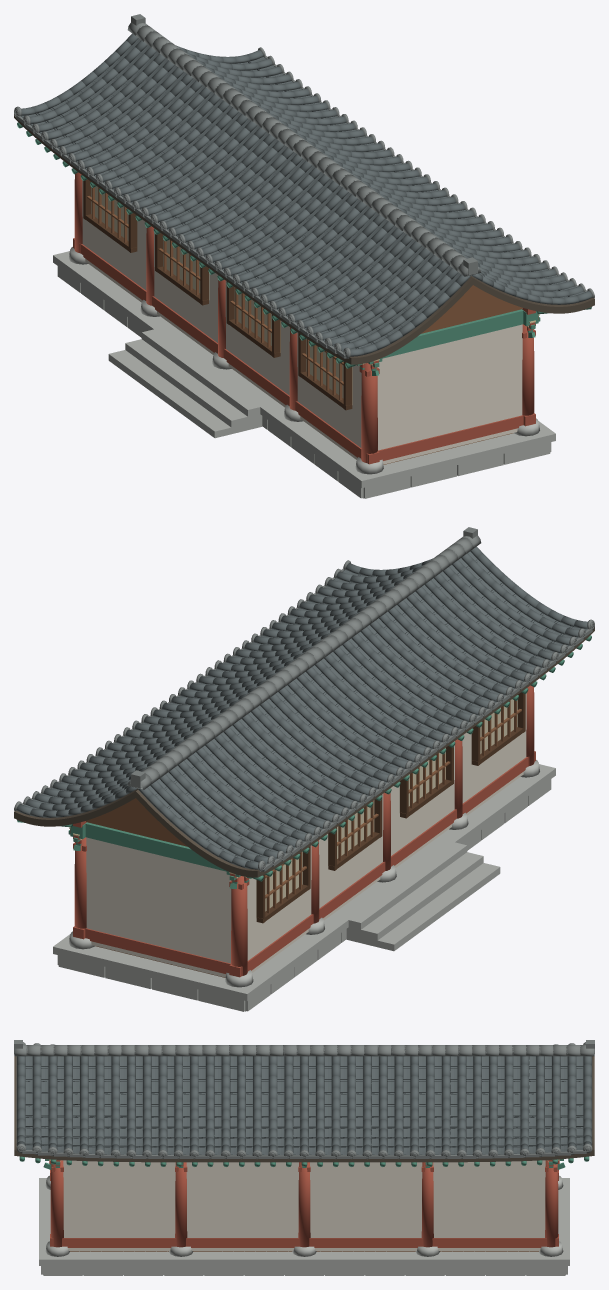
File: Gwana_East_Haengrang.fbx
3 renders of one model, top to bottom at view 1: azimuth 30°, elevation 25°; view 2: azimuth 150°, elevation 25°; view 3: azimuth 270°, elevation 25°, orthographic. The views are drawn at different scales.
Visible parts, largest first — view 1: GW_Gwana_East_Haengrang_Individual_Sukiwa, GW_Gwana_East_Haengrang_Walls_Floor, GW_Gwana_East_Haengrang_Stone_Foundation, GW_Gwana_East_Haengrang_Individual_Amkiwa, GW_Gwana_East_Haengrang_Timber, GW_Gwana_East_Haengrang_Doors_Lattice, GW_Gwana_East_Haengrang_Segmented_Ridge, GW_Gwana_East_Haengrang_Individual_Wadang, GW_Gwana_East_Haengrang_Roof_Shell, GW_Gwana_East_Haengrang_Closed_Attic_Walls, GW_Gwana_East_Haengrang_Individual_Rafters; view 2: GW_Gwana_East_Haengrang_Individual_Sukiwa, GW_Gwana_East_Haengrang_Walls_Floor, GW_Gwana_East_Haengrang_Stone_Foundation, GW_Gwana_East_Haengrang_Individual_Amkiwa, GW_Gwana_East_Haengrang_Timber, GW_Gwana_East_Haengrang_Doors_Lattice, GW_Gwana_East_Haengrang_Segmented_Ridge, GW_Gwana_East_Haengrang_Individual_Wadang, GW_Gwana_East_Haengrang_Roof_Shell, GW_Gwana_East_Haengrang_Closed_Attic_Walls, GW_Gwana_East_Haengrang_Individual_Rafters; view 3: GW_Gwana_East_Haengrang_Walls_Floor, GW_Gwana_East_Haengrang_Individual_Sukiwa, GW_Gwana_East_Haengrang_Individual_Amkiwa, GW_Gwana_East_Haengrang_Stone_Foundation, GW_Gwana_East_Haengrang_Timber, GW_Gwana_East_Haengrang_Segmented_Ridge, GW_Gwana_East_Haengrang_Roof_Shell, GW_Gwana_East_Haengrang_Individual_Wadang, GW_Gwana_East_Haengrang_Individual_Rafters, GW_Gwana_East_Haengrang_Bracket_Dancheong.
Part boxes in pixels (<box>): GW_Gwana_East_Haengrang_Individual_Sukiwa: <box>21,33,592,356</box>; GW_Gwana_East_Haengrang_Walls_Floor: <box>82,180,522,464</box>; GW_Gwana_East_Haengrang_Stone_Foundation: <box>53,251,555,498</box>; GW_Gwana_East_Haengrang_Individual_Amkiwa: <box>16,38,586,358</box>; GW_Gwana_East_Haengrang_Timber: <box>69,172,539,474</box>; GW_Gwana_East_Haengrang_Doors_Lattice: <box>83,179,352,410</box>; GW_Gwana_East_Haengrang_Segmented_Ridge: <box>127,14,481,276</box>; GW_Gwana_East_Haengrang_Individual_Wadang: <box>14,47,594,358</box>; GW_Gwana_East_Haengrang_Roof_Shell: <box>14,114,594,364</box>; GW_Gwana_East_Haengrang_Closed_Attic_Walls: <box>421,285,522,333</box>; GW_Gwana_East_Haengrang_Individual_Rafters: <box>17,122,591,368</box>; GW_Gwana_East_Haengrang_Individual_Sukiwa: <box>16,546,587,869</box>; GW_Gwana_East_Haengrang_Walls_Floor: <box>86,693,526,977</box>; GW_Gwana_East_Haengrang_Stone_Foundation: <box>53,764,555,1011</box>; GW_Gwana_East_Haengrang_Individual_Amkiwa: <box>22,551,592,871</box>; GW_Gwana_East_Haengrang_Timber: <box>69,685,539,987</box>; GW_Gwana_East_Haengrang_Doors_Lattice: <box>256,692,525,923</box>; GW_Gwana_East_Haengrang_Segmented_Ridge: <box>127,527,481,789</box>; GW_Gwana_East_Haengrang_Individual_Wadang: <box>14,560,594,871</box>; GW_Gwana_East_Haengrang_Roof_Shell: <box>14,627,594,877</box>; GW_Gwana_East_Haengrang_Closed_Attic_Walls: <box>86,798,187,846</box>; GW_Gwana_East_Haengrang_Individual_Rafters: <box>17,635,591,881</box>; GW_Gwana_East_Haengrang_Walls_Floor: <box>63,1160,545,1251</box>; GW_Gwana_East_Haengrang_Individual_Sukiwa: <box>16,1056,592,1152</box>; GW_Gwana_East_Haengrang_Individual_Amkiwa: <box>22,1056,586,1158</box>; GW_Gwana_East_Haengrang_Stone_Foundation: <box>39,1178,569,1275</box>; GW_Gwana_East_Haengrang_Timber: <box>45,1159,563,1256</box>; GW_Gwana_East_Haengrang_Segmented_Ridge: <box>14,1040,594,1056</box>; GW_Gwana_East_Haengrang_Roof_Shell: <box>14,1056,594,1162</box>; GW_Gwana_East_Haengrang_Individual_Wadang: <box>16,1042,592,1159</box>; GW_Gwana_East_Haengrang_Individual_Rafters: <box>19,1156,589,1166</box>; GW_Gwana_East_Haengrang_Bracket_Dancheong: <box>43,1159,565,1171</box>.
Size of what is drawn, in the model's own units: 5.81 by 4.7 by 12.72.
